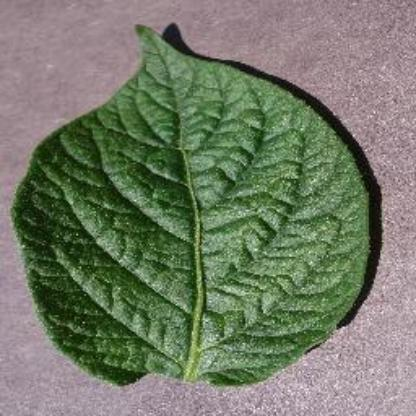Healthy-plant: (13, 19, 376, 389)
